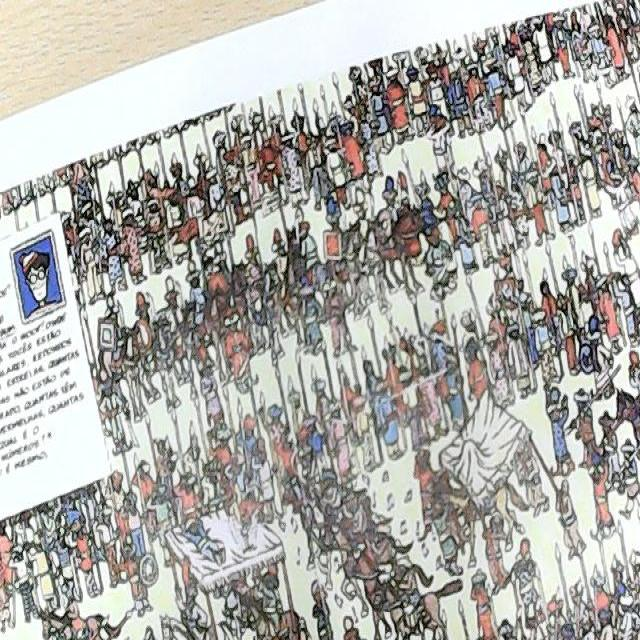waldo: (15, 245, 59, 307), (202, 258, 216, 277)
